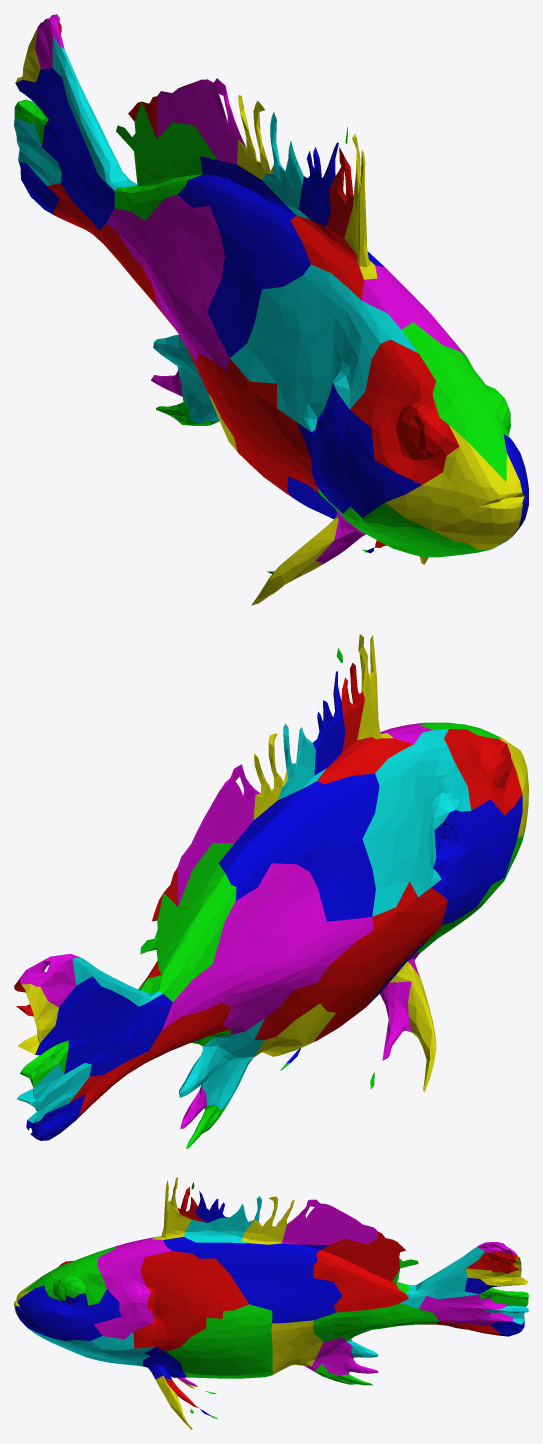
File: boguchi_nanite_ORIGIN.fbx
The picture shows the model from 3 angles, top to bottom: view 1: azimuth 30°, elevation 25°; view 2: azimuth 150°, elevation 25°; view 3: azimuth 270°, elevation 25°; orthographic projection. The views are drawn at different scales.
Bounding box in the file's own units: 0.194 × 0.5002 × 0.9999.
